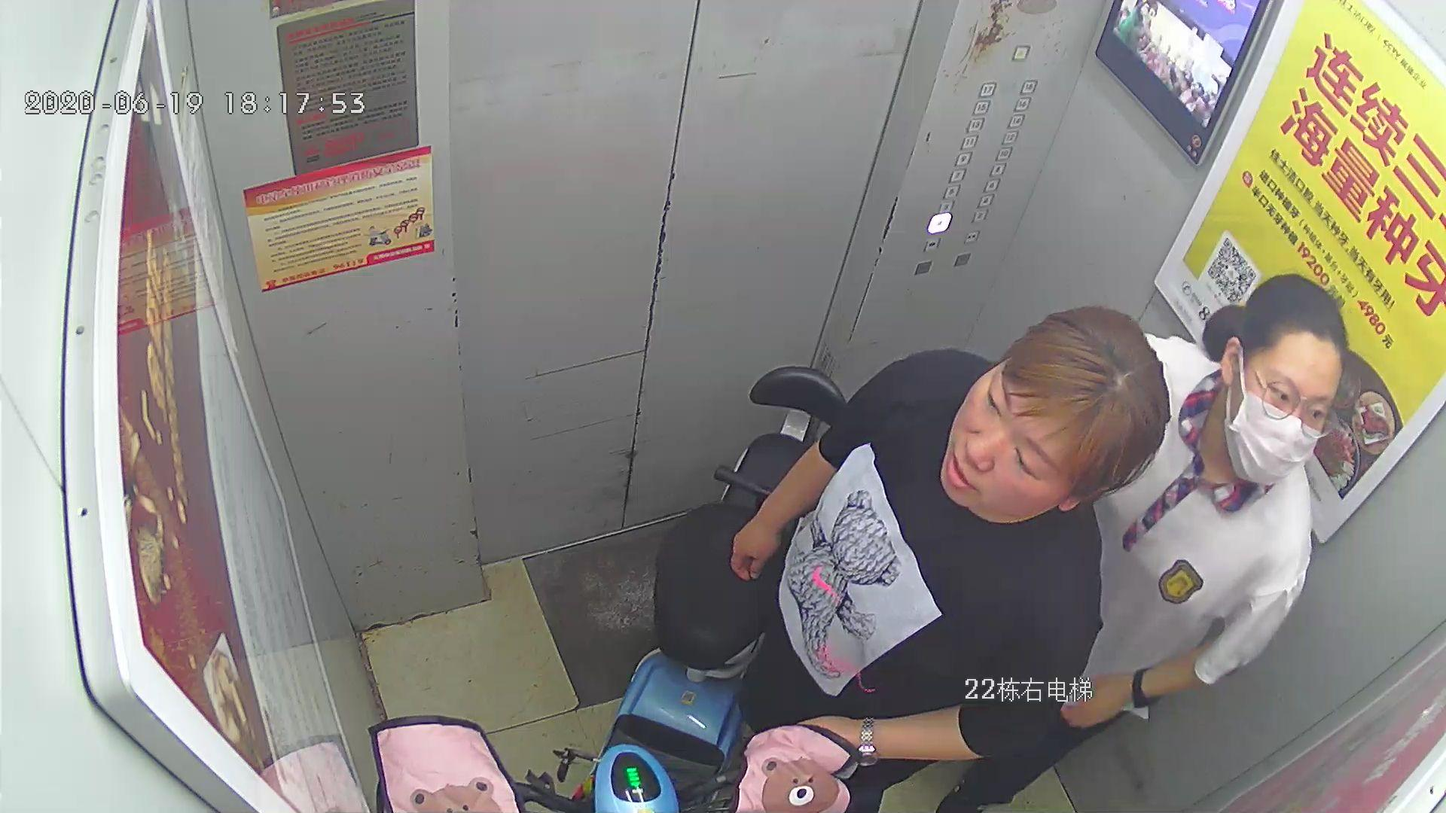Electric-bicycle: (384, 367, 851, 812)
